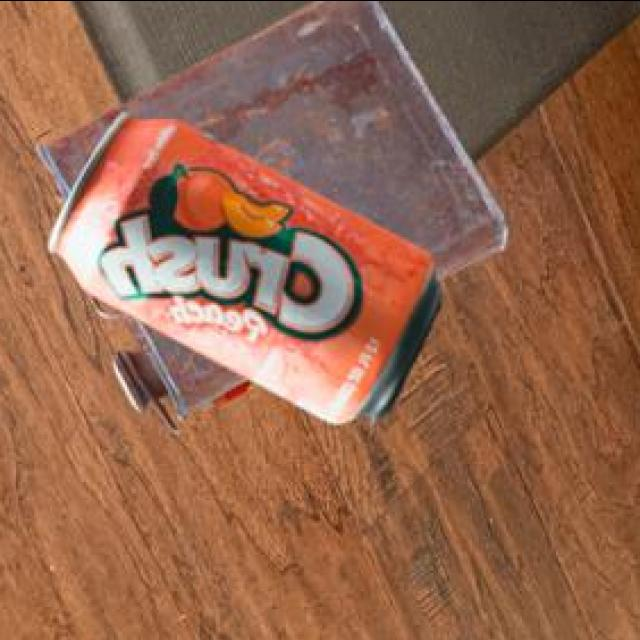logam: (40, 0, 512, 435), (51, 115, 446, 426), (208, 382, 260, 410)
